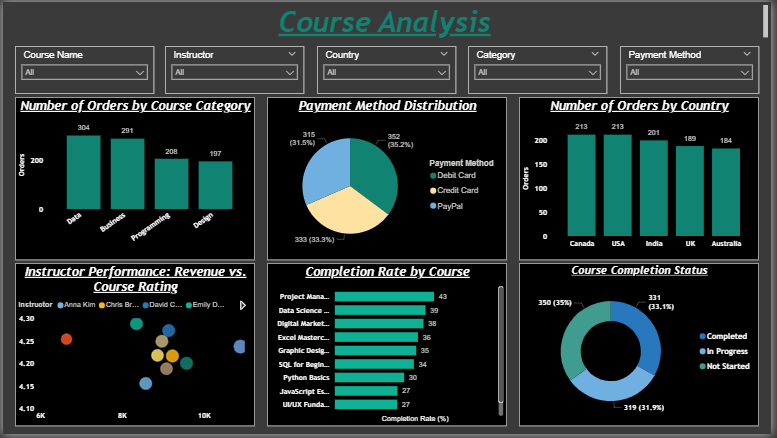

What the dashboard file says about the page in this screenshot:
{"tool":"powerbi","page":{"name":"Course Analysis","canvas":[1280,720],"ordinal":1},"visuals":[{"type":"slicer","fields":{"Values":["online_course_sales_dataset.Course Name"]},"box":[19.8,72.6,232,80],"z":0},{"type":"slicer","fields":{"Values":["online_course_sales_dataset.Country"]},"box":[523.8,72.6,232,80],"z":1000},{"type":"slicer","fields":{"Values":["online_course_sales_dataset.Instructor"]},"box":[270.3,72.6,232,80],"z":2000},{"type":"slicer","fields":{"Values":["online_course_sales_dataset.Category"]},"box":[775.8,72.6,232,80],"z":3000},{"type":"slicer","fields":{"Values":["online_course_sales_dataset.Payment Method"]},"box":[1027.8,72.6,232,80],"z":4000},{"type":"textbox","box":[0,0,1279.8,72.3],"z":5000},{"type":"columnChart","title":"Number of Orders by Course Category","fields":{"Y":["online_course_sales_dataset.Order ID"],"Category":["online_course_sales_dataset.Category"]},"box":[20,158.3,400,271.7],"z":6000},{"type":"pieChart","title":"Payment Method Distribution","fields":{"Category":["online_course_sales_dataset.Payment Method"],"Y":["online_course_sales_dataset.Order ID"]},"box":[440,158.3,400,271.7],"z":7000},{"type":"scatterChart","title":"Instructor Performance: Revenue vs. Course Rating","fields":{"X":["online_course_sales_dataset.Final Price"],"Y":["online_course_sales_dataset.Course Rating"],"Series":["online_course_sales_dataset.Instructor"],"Size":["online_course_sales_dataset.Order ID"]},"box":[20,435,400,271.7],"z":8000},{"type":"barChart","title":"Completion Rate by Course","fields":{"Category":["online_course_sales_dataset.Course Name"],"Y":["online_course_sales_dataset.Completion Rate (%)"]},"box":[440,435,400,271.7],"z":9000},{"type":"columnChart","title":"Number of Orders by Country","fields":{"Category":["online_course_sales_dataset.Country"],"Y":["online_course_sales_dataset.Order ID"]},"box":[860,158.3,400,271.7],"z":10000},{"type":"donutChart","title":"Course Completion Status","fields":{"Category":["online_course_sales_dataset.Completion Status"],"Y":["online_course_sales_dataset.Order ID"]},"box":[860,435,400,271.7],"z":11000}]}

Visuals, with their boxes in screenshot pixels (x1, y1, x2, y2), scaled from the page's 1280x720 canvas onto the 777x438 screenshot:
slicer - online_course_sales_dataset.Course Name: [x1=12, y1=44, x2=153, y2=93]
slicer - online_course_sales_dataset.Country: [x1=318, y1=44, x2=459, y2=93]
slicer - online_course_sales_dataset.Instructor: [x1=164, y1=44, x2=305, y2=93]
slicer - online_course_sales_dataset.Category: [x1=471, y1=44, x2=612, y2=93]
slicer - online_course_sales_dataset.Payment Method: [x1=624, y1=44, x2=765, y2=93]
textbox: [x1=0, y1=0, x2=776, y2=44]
"Number of Orders by Course Category" columnChart: [x1=12, y1=96, x2=255, y2=262]
"Payment Method Distribution" pieChart: [x1=267, y1=96, x2=510, y2=262]
"Instructor Performance: Revenue vs. Course Rating" scatterChart: [x1=12, y1=265, x2=255, y2=430]
"Completion Rate by Course" barChart: [x1=267, y1=265, x2=510, y2=430]
"Number of Orders by Country" columnChart: [x1=522, y1=96, x2=765, y2=262]
"Course Completion Status" donutChart: [x1=522, y1=265, x2=765, y2=430]
